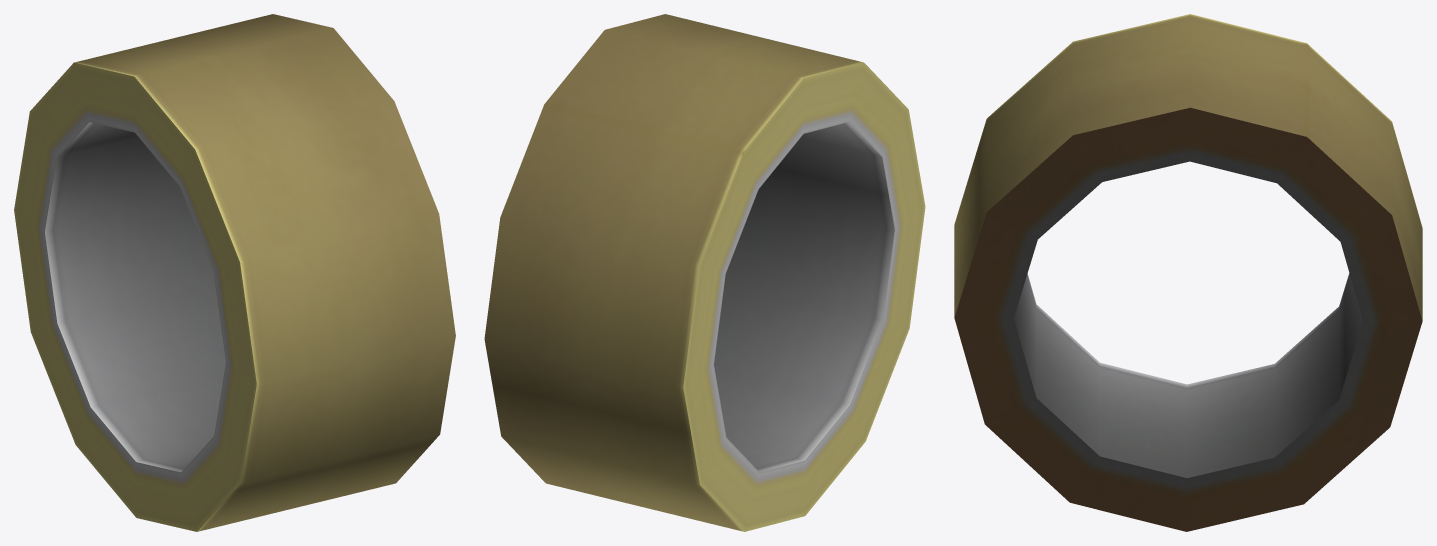
The model's file is BianLiDian_01_jiaodai_01.FBX.
3 views of the same model, side by side, from view 1: azimuth 30°, elevation 25°; view 2: azimuth 150°, elevation 25°; view 3: azimuth 270°, elevation 25° (orthographic). The views are drawn at different scales.
Parts seen in each view (by area): view 1: BianLiDian_01_jiaobu_01; view 2: BianLiDian_01_jiaobu_01; view 3: BianLiDian_01_jiaobu_01.
Boxes of the visible parts, x1,y1,x2,y2 form: BianLiDian_01_jiaobu_01: (14, 14, 455, 531); BianLiDian_01_jiaobu_01: (484, 14, 925, 531); BianLiDian_01_jiaobu_01: (954, 14, 1422, 531).
Size of the model in its own units: 19.1 by 40.3 by 40.3.
